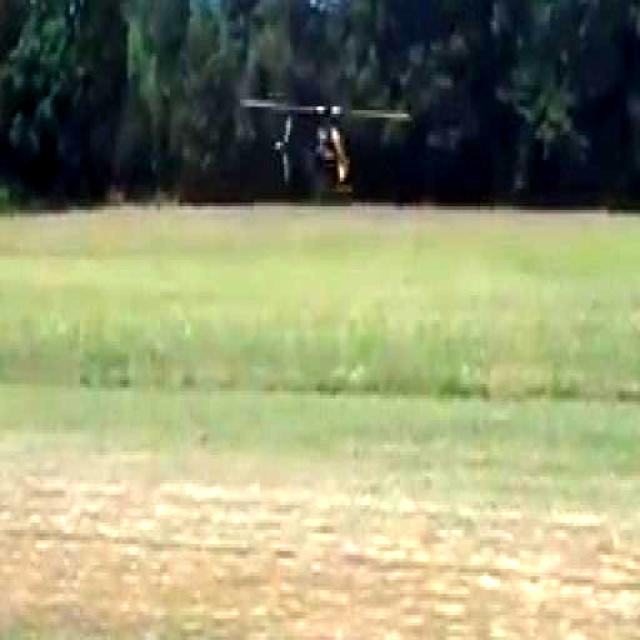drone: (228, 71, 424, 204)
